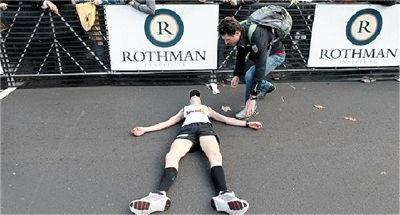bending: (218, 7, 289, 119)
down: (110, 85, 266, 215)
